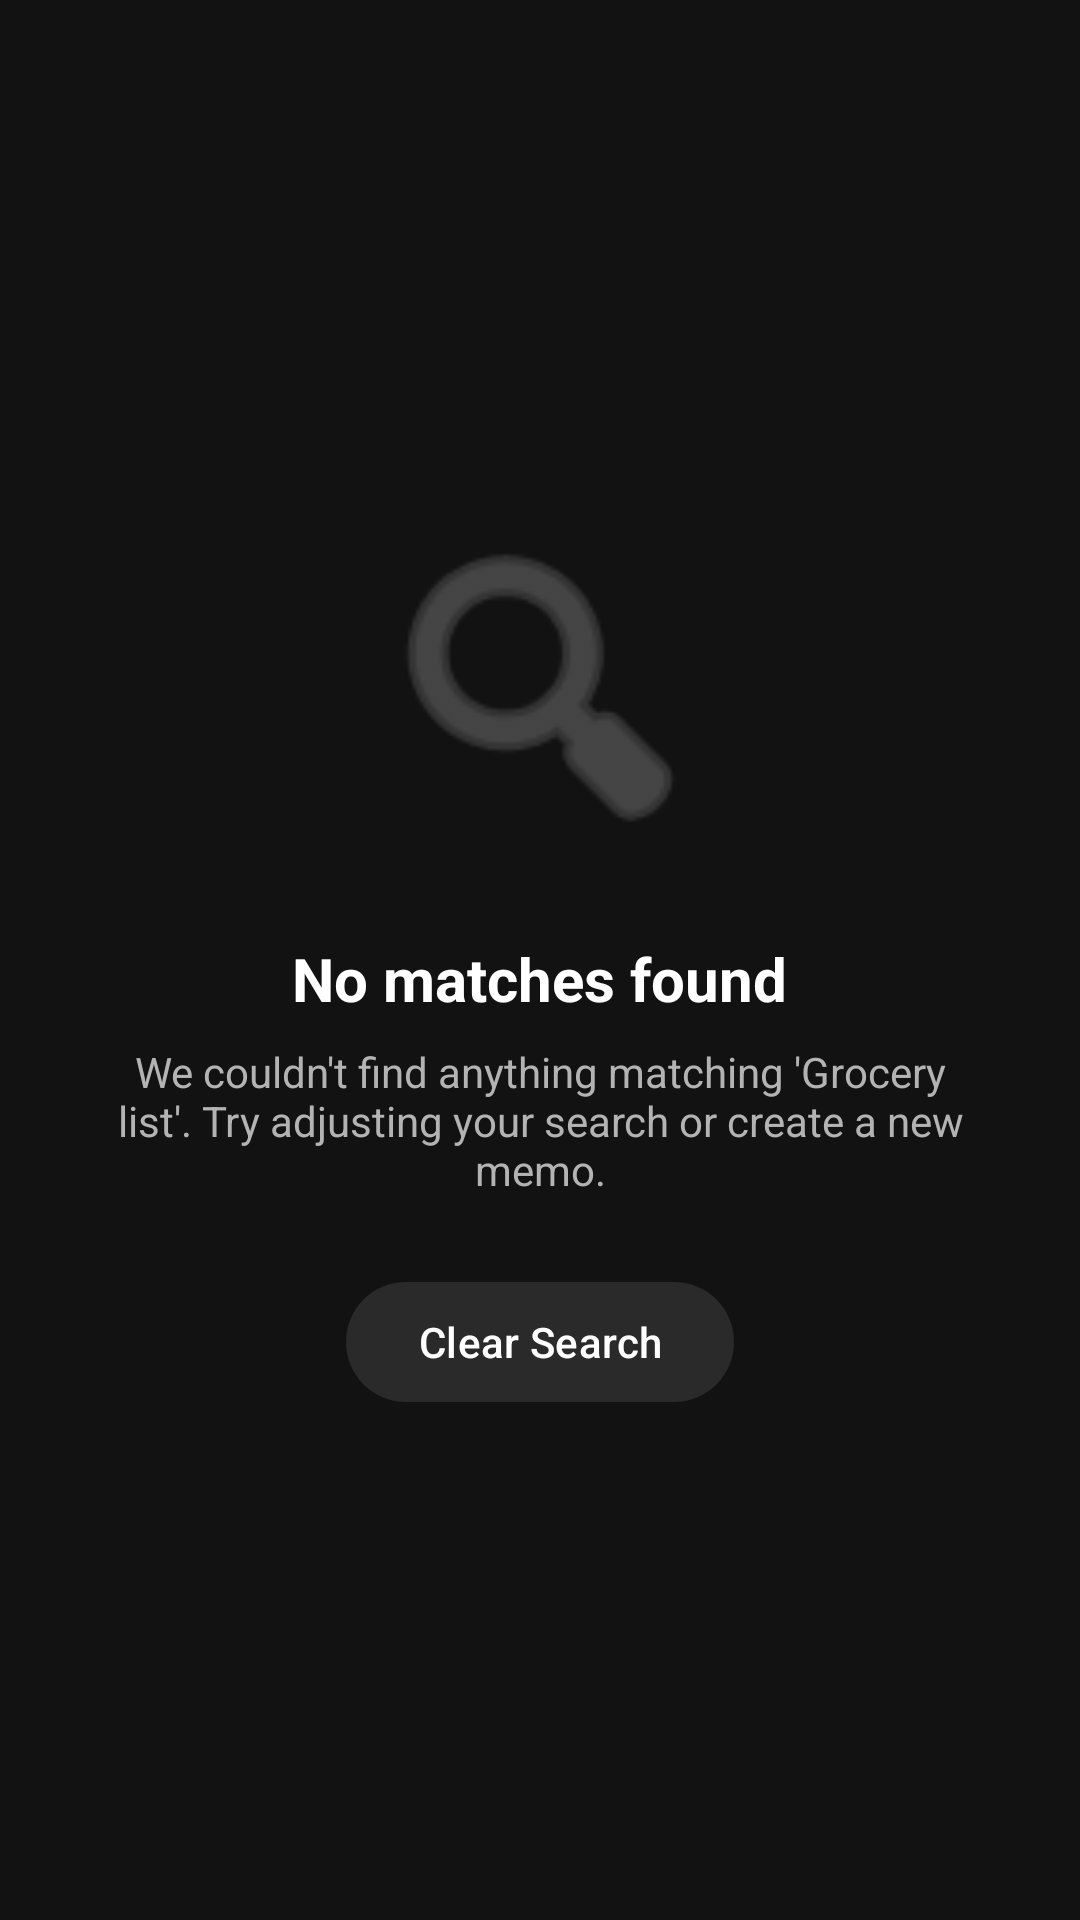

Icons on this 1080x1920 Android screen, each with its box as (x1, y1, x2, y2):
search: (409, 556, 671, 819)
